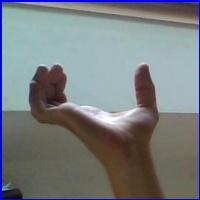B: (17, 55, 165, 166)
